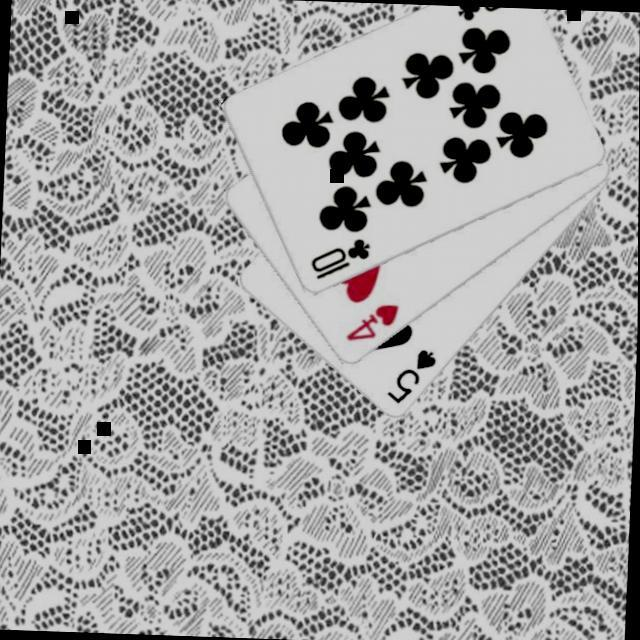10C: (305, 235, 373, 285), (451, 5, 519, 27)
4H: (341, 300, 401, 348)
5S: (383, 346, 439, 410)
